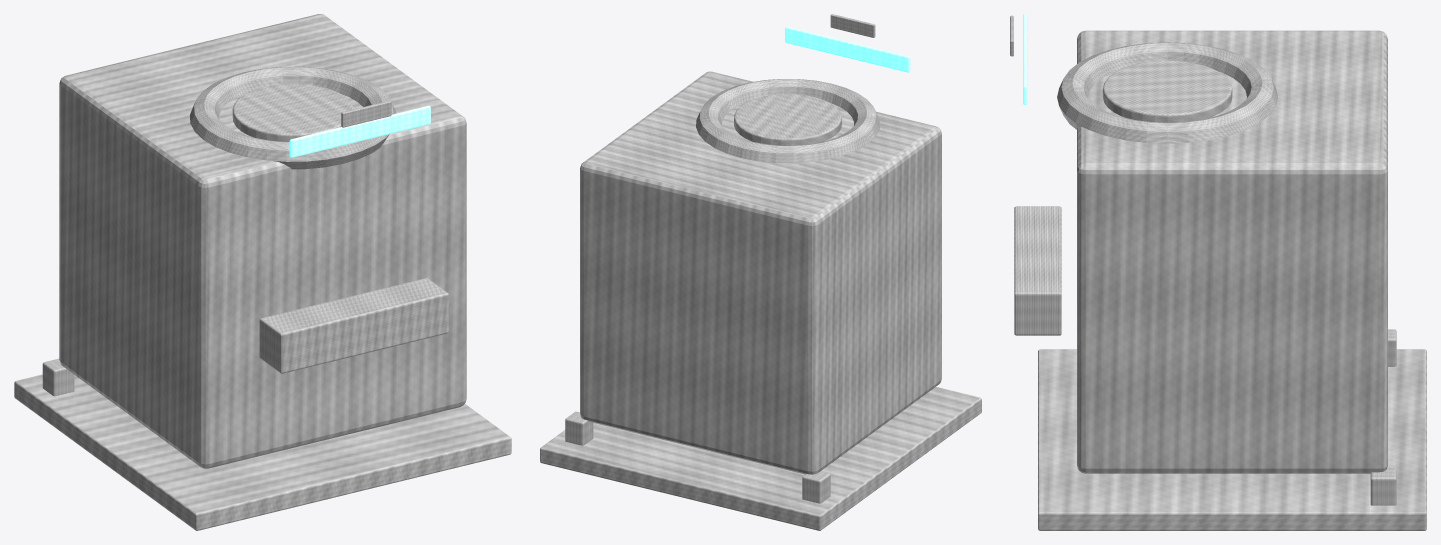
File: awesome_sink_variant_a.glb
The picture shows the model from 3 angles, left to right: view 1: azimuth 30°, elevation 25°; view 2: azimuth 150°, elevation 25°; view 3: azimuth 270°, elevation 25°; orthographic projection. The views are drawn at different scales.
Parts seen in each view (by area): view 1: Sink body, Foundation, Output chute, Sink intake ring.001, Sink intake, Score display, Service foot, Asset ID plate.001; view 2: Sink body, Foundation, Sink intake ring.001, Sink intake, Score display, Service foot, Service foot.001, Asset ID plate.001; view 3: Sink body, Foundation, Sink intake ring.001, Sink intake, Output chute, Service foot.001.
Boxes of the visible parts, x1=… form: Sink body: x1=59, y1=14, x2=466, y2=468; Foundation: x1=14, y1=374, x2=511, y2=530; Output chute: x1=259, y1=278, x2=448, y2=373; Sink intake ring.001: x1=189, y1=66, x2=396, y2=169; Sink intake: x1=232, y1=84, x2=353, y2=141; Score display: x1=289, y1=105, x2=430, y2=157; Service foot: x1=42, y1=358, x2=74, y2=396; Asset ID plate.001: x1=341, y1=100, x2=391, y2=127; Sink body: x1=580, y1=71, x2=941, y2=474; Foundation: x1=540, y1=387, x2=981, y2=530; Sink intake ring.001: x1=696, y1=79, x2=879, y2=163; Sink intake: x1=734, y1=94, x2=841, y2=145; Score display: x1=785, y1=26, x2=910, y2=72; Service foot: x1=802, y1=471, x2=830, y2=503; Service foot.001: x1=565, y1=411, x2=593, y2=445; Asset ID plate.001: x1=830, y1=14, x2=875, y2=37; Sink body: x1=1077, y1=30, x2=1387, y2=473; Foundation: x1=1038, y1=349, x2=1426, y2=530; Sink intake ring.001: x1=1057, y1=42, x2=1277, y2=143; Sink intake: x1=1102, y1=60, x2=1232, y2=122; Output chute: x1=1014, y1=206, x2=1061, y2=335; Service foot.001: x1=1370, y1=468, x2=1396, y2=505.
Size of what is drawn, in the model's own units: 4.5 by 5.38 by 4.82.
6 materials, 6 textured.
